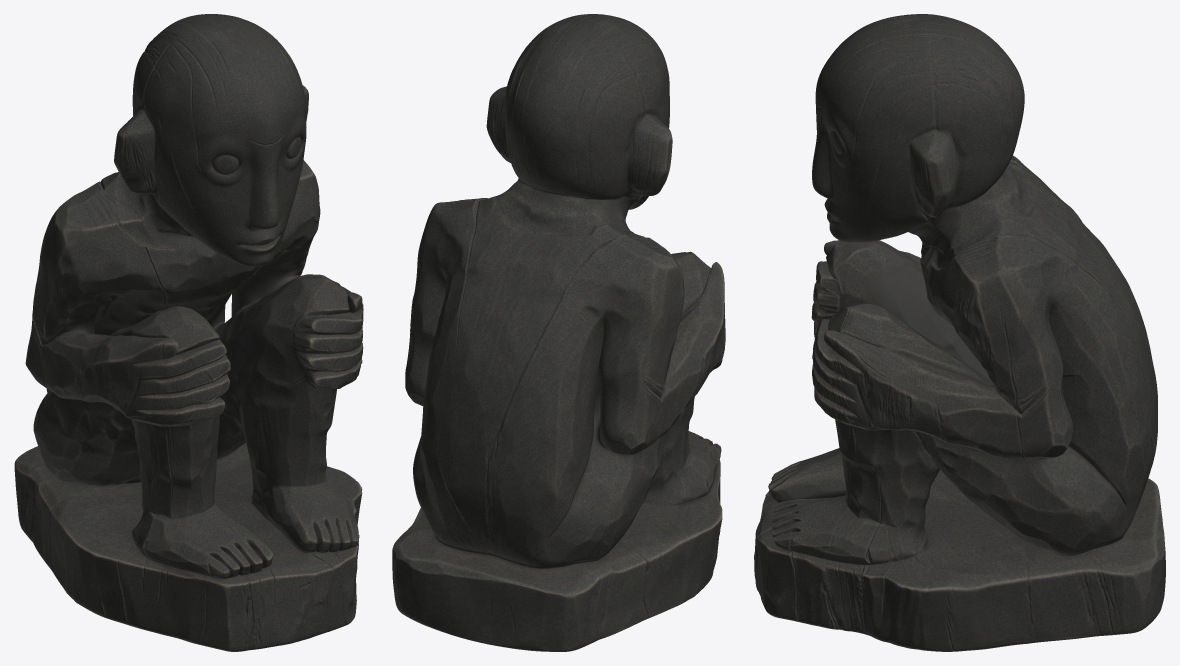
File: ifugao.glb
3 views of the same model, side by side, from view 1: azimuth 30°, elevation 25°; view 2: azimuth 150°, elevation 25°; view 3: azimuth 270°, elevation 25° (orthographic). The views are drawn at different scales.
Bounding box in the file's own units: 0.9904 × 1.9 × 1.26.
1 material, 1 textured.
